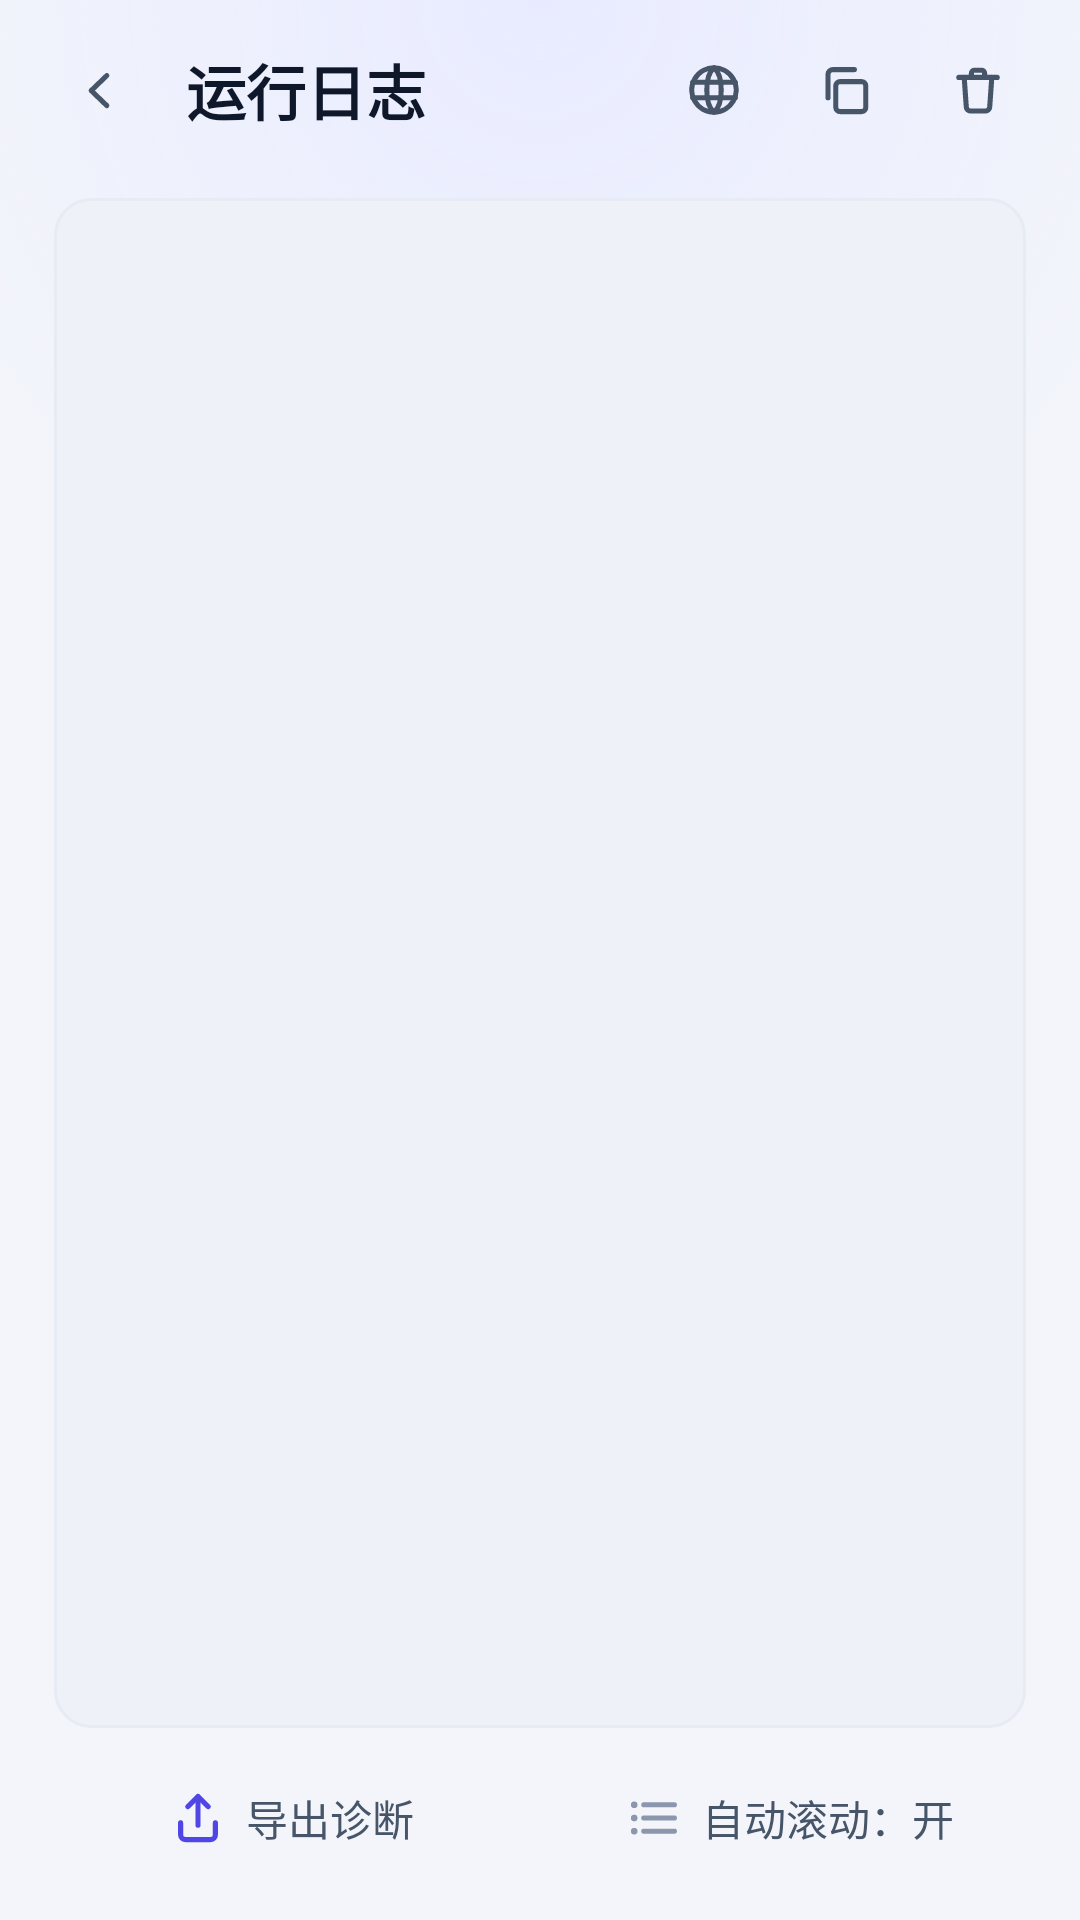

Screen size 1080 × 1920. Icon name, then its box in pixels as rect(x1, y1, x2, y2):
复制: rect(825, 67, 869, 115)
打开门户页手动登录: rect(689, 65, 739, 115)
清空: rect(956, 67, 1000, 114)
返回: rect(88, 73, 110, 109)
